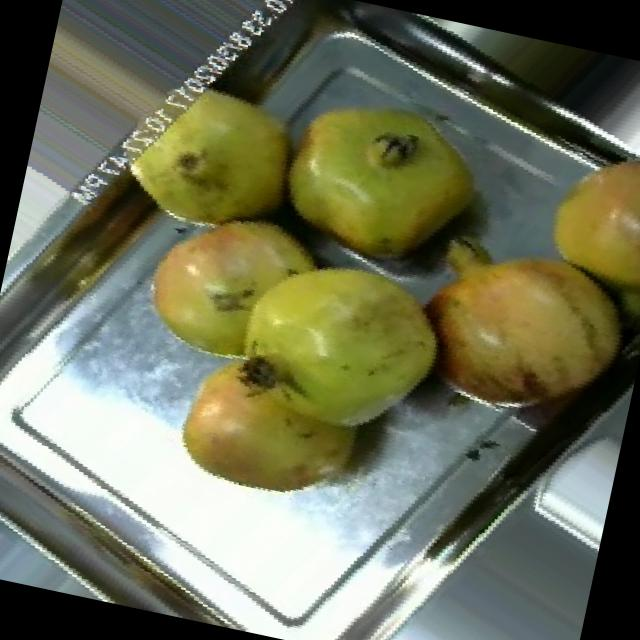fruit: (195, 213, 484, 482), (371, 191, 640, 466), (240, 55, 521, 306), (111, 180, 346, 403), (144, 333, 389, 538), (104, 51, 318, 269), (512, 76, 640, 316)
